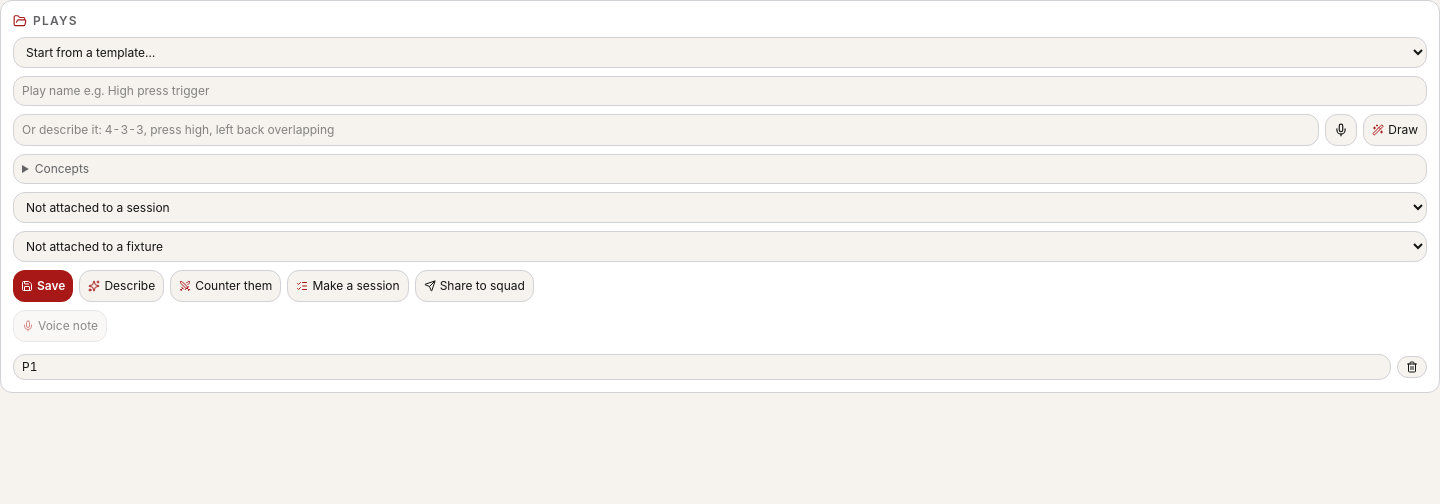
Test case: SavedPlaysPanel › loading a play gives every sibling its own React key, so the voice note button is not duplicated
This screenshot has width=1440, height=504.
Click the button "P1".
click(30, 366)  # box left=13, top=354, right=1391, bottom=380
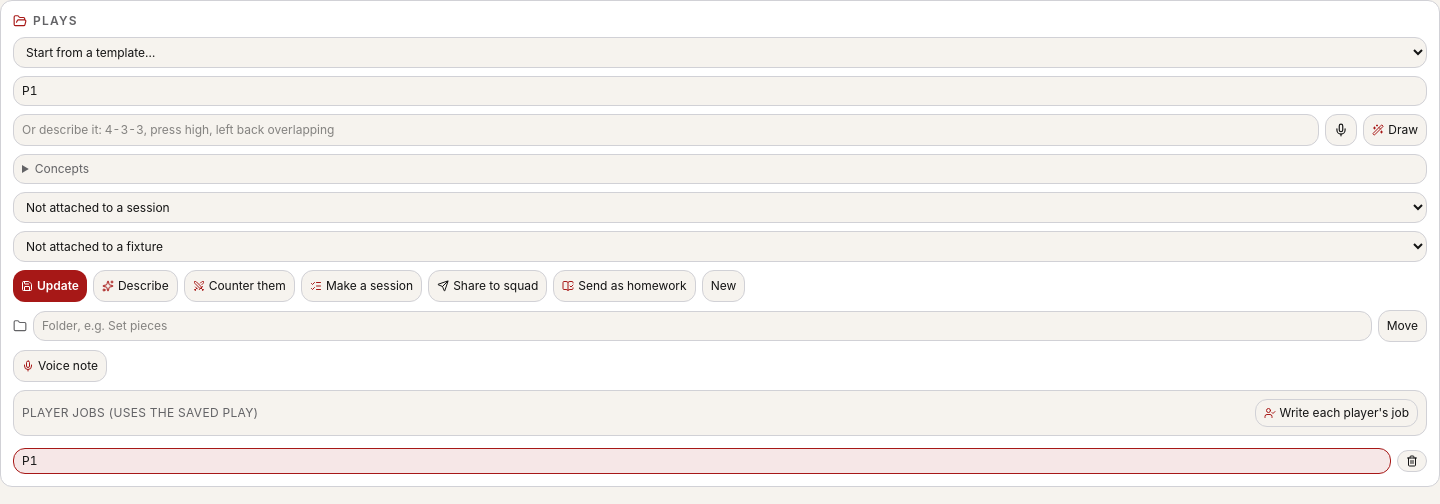
expect the number of buttons "Voice note" is 1: met, box left=13, top=350, right=107, bottom=382
